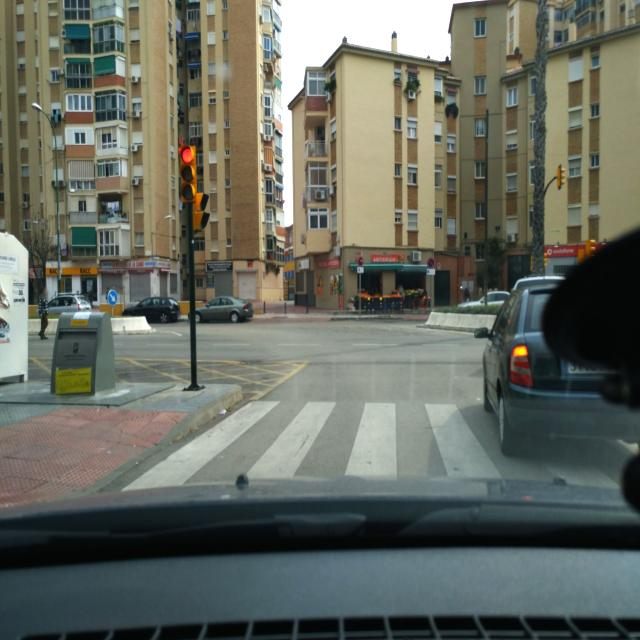car: (480, 273, 632, 457), (193, 295, 254, 323), (121, 296, 180, 323), (39, 293, 91, 317), (464, 290, 511, 307)
